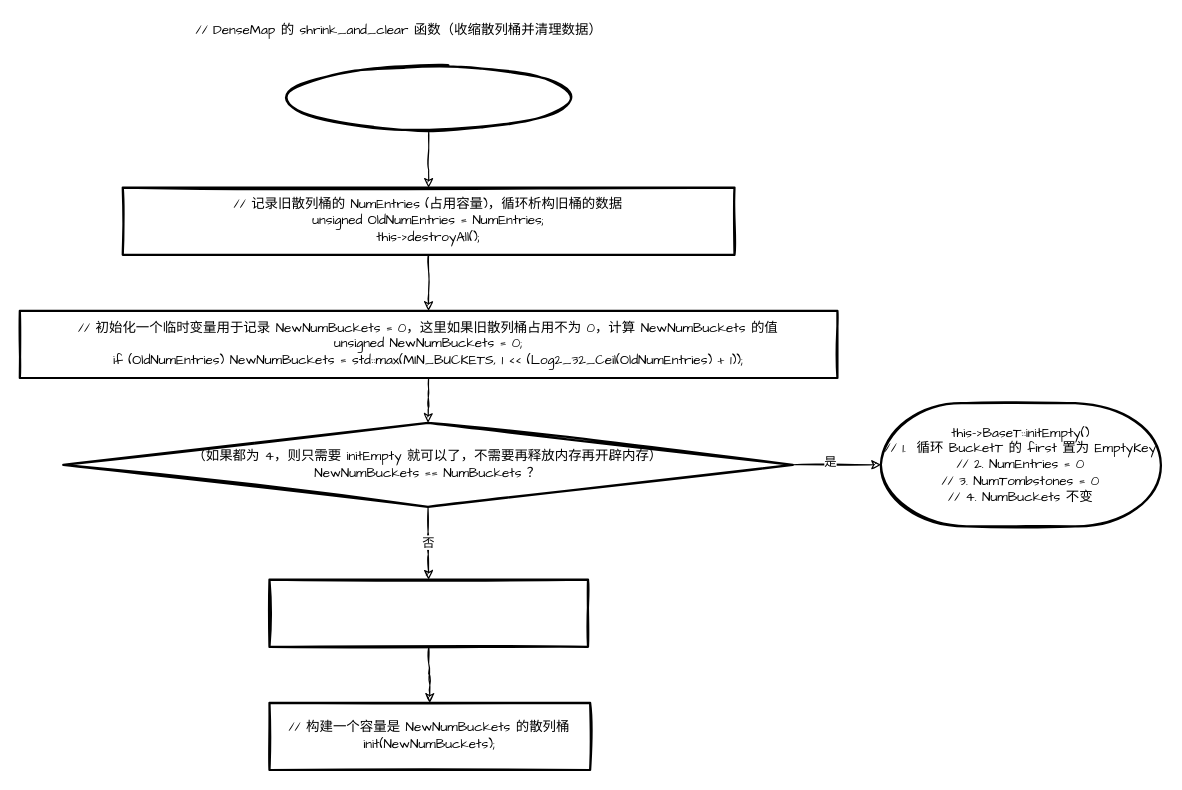
Some shapes in this 1182 by 790 pixel diagram are drawn without their labels. Here are the shapes that lost their labels. From the top down, the box of each, then its label:
(277, 63, 579, 132): // DenseMap 的 shrink_and_clear 函数 void shrink_and_clear();
(268, 578, 589, 647): // 释放旧散列桶的内存 operator delete(Buckets);
